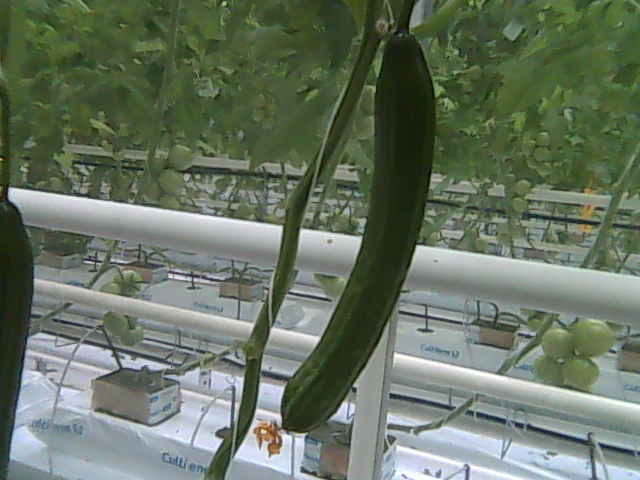concombre: (251, 28, 441, 460)
